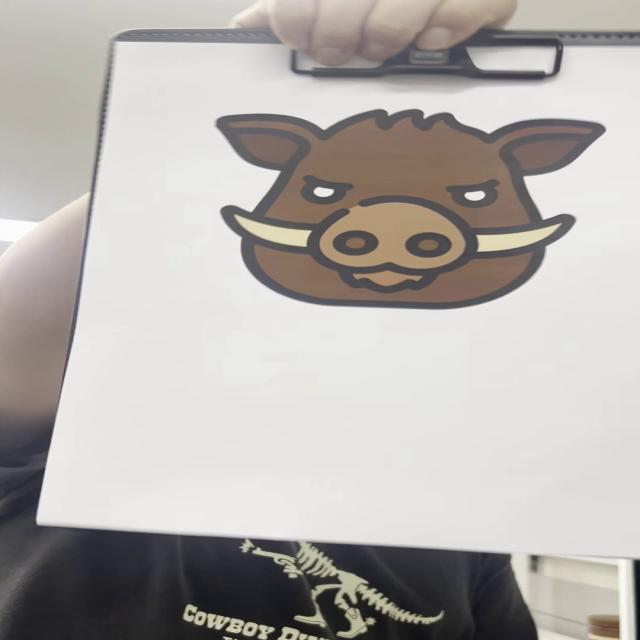animal: (189, 105, 617, 313)
